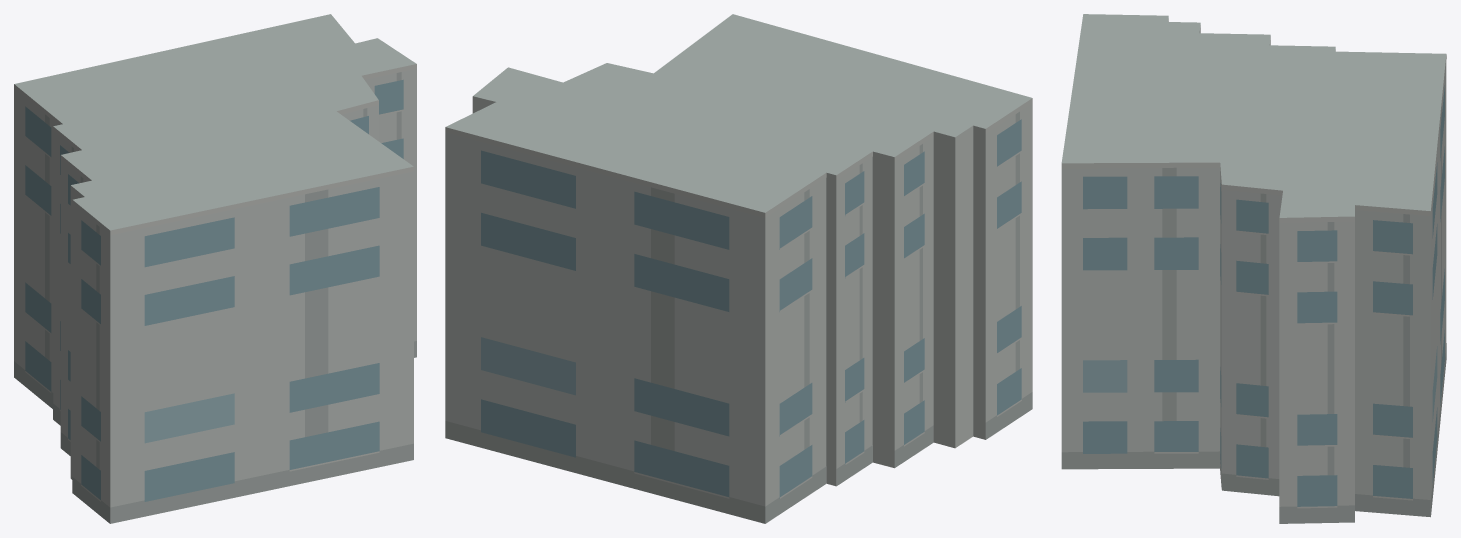
File: survey-upis-32644440.glb
3 renders of one model, left to right at view 1: azimuth 30°, elevation 25°; view 2: azimuth 150°, elevation 25°; view 3: azimuth 270°, elevation 25°, orthographic. The views are drawn at different scales.
Visible parts, largest first — view 1: survey-upis-32644440.tmp; view 2: survey-upis-32644440.tmp; view 3: survey-upis-32644440.tmp.
Part boxes in pixels (x1,y1,x2,y2): survey-upis-32644440.tmp: (14, 14, 416, 523); survey-upis-32644440.tmp: (445, 14, 1032, 523); survey-upis-32644440.tmp: (1061, 14, 1446, 523).
Bounding box in the file's own units: 21.17 × 14.8 × 16.88.
